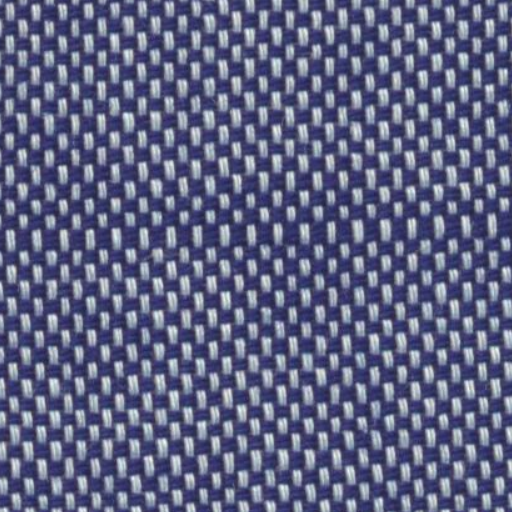TuoSha: (16, 194, 492, 282)
